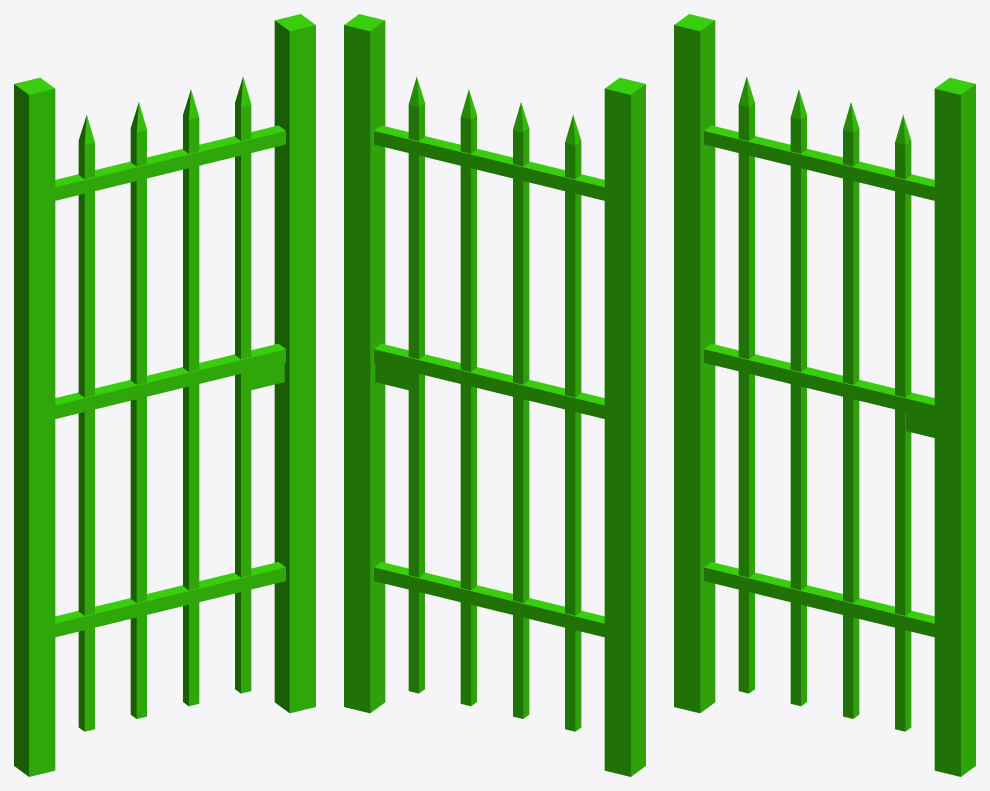
File: fence3_single_gate.fbx
The picture shows the model from 3 angles, left to right: view 1: azimuth 30°, elevation 25°; view 2: azimuth 150°, elevation 25°; view 3: azimuth 330°, elevation 25°; orthographic projection.
Parts seen in each view (by area): view 1: fence3_single_gate_support, fence3_single_gate; view 2: fence3_single_gate_support, fence3_single_gate; view 3: fence3_single_gate_support, fence3_single_gate.
Part boxes in pixels (<box>): fence3_single_gate_support: <box>14,14,315,776</box>; fence3_single_gate: <box>55,76,285,731</box>; fence3_single_gate_support: <box>344,14,645,776</box>; fence3_single_gate: <box>374,76,604,731</box>; fence3_single_gate_support: <box>674,14,975,776</box>; fence3_single_gate: <box>704,76,934,731</box>.
Bounding box in the file's own units: 110 × 250 × 10.
